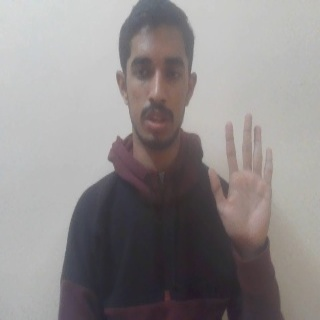Face: (115, 1, 199, 153)
Hello: (207, 111, 276, 252)
